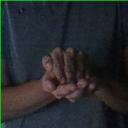hand: (42, 48, 98, 83), (40, 79, 97, 103)
